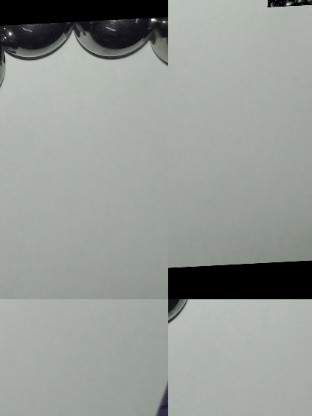ironball: (71, 15, 147, 63), (0, 20, 77, 60), (150, 13, 167, 66), (166, 295, 188, 320)
